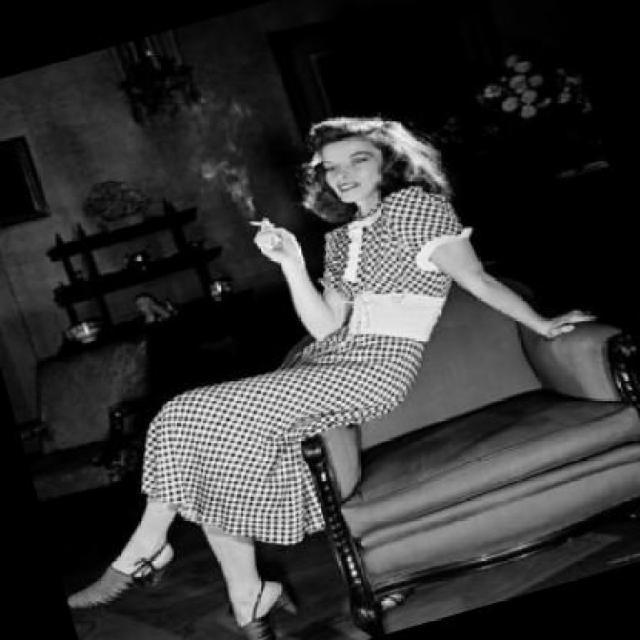smoke: (242, 214, 311, 270)
